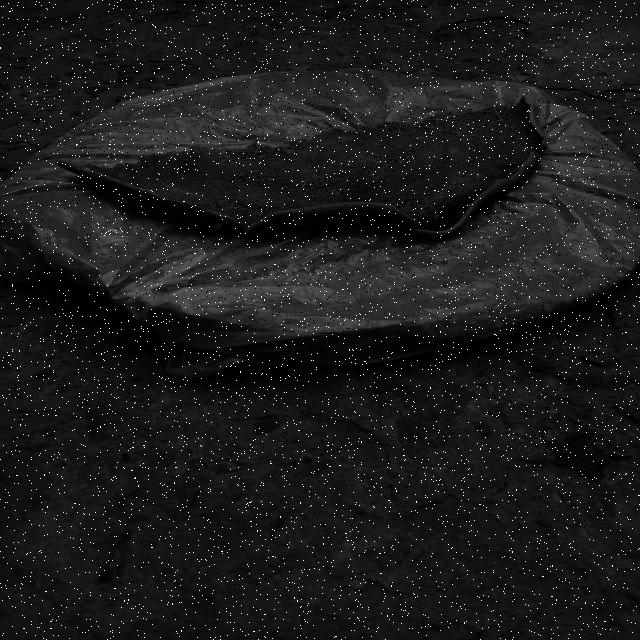injera_mold: (213, 223, 223, 230), (520, 143, 534, 147), (454, 130, 462, 136), (425, 124, 434, 129), (479, 165, 488, 169), (434, 213, 439, 220), (376, 163, 384, 167), (518, 128, 522, 134), (454, 173, 459, 177), (523, 148, 533, 150), (136, 204, 141, 208), (478, 174, 482, 178), (390, 168, 394, 172), (387, 180, 392, 183), (434, 118, 440, 120), (515, 146, 518, 150), (518, 137, 522, 140), (501, 112, 504, 116), (467, 160, 471, 163), (439, 206, 443, 209), (533, 157, 537, 160), (501, 136, 506, 138), (536, 142, 541, 144), (538, 146, 540, 150), (436, 124, 439, 126), (438, 141, 441, 143), (532, 135, 534, 138), (523, 105, 526, 107), (469, 196, 472, 198), (504, 155, 507, 157), (491, 136, 493, 138), (452, 164, 454, 166), (442, 129, 444, 130), (449, 132, 450, 134), (478, 137, 479, 139), (520, 103, 521, 105), (504, 142, 506, 143)
